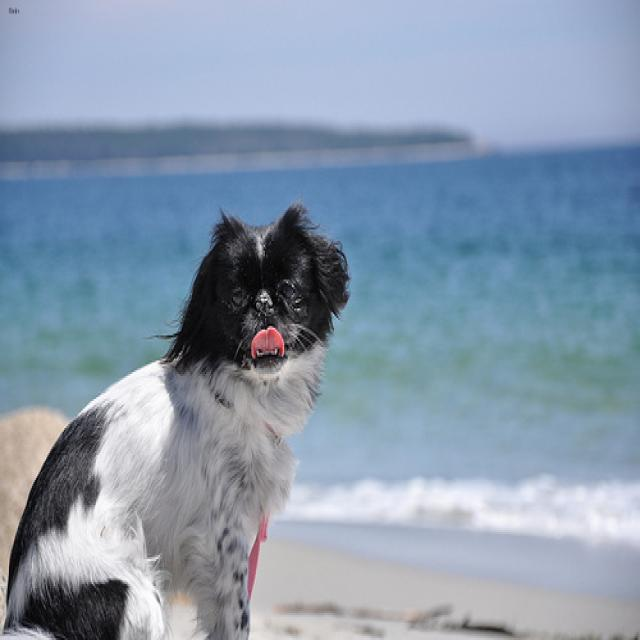dog-japanese_chin: (1, 197, 356, 636)
